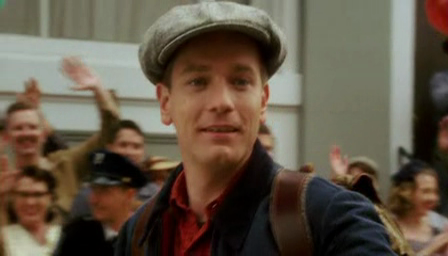cu: (1, 1, 448, 256)
face: (173, 39, 261, 168)
person: (114, 1, 398, 256)
